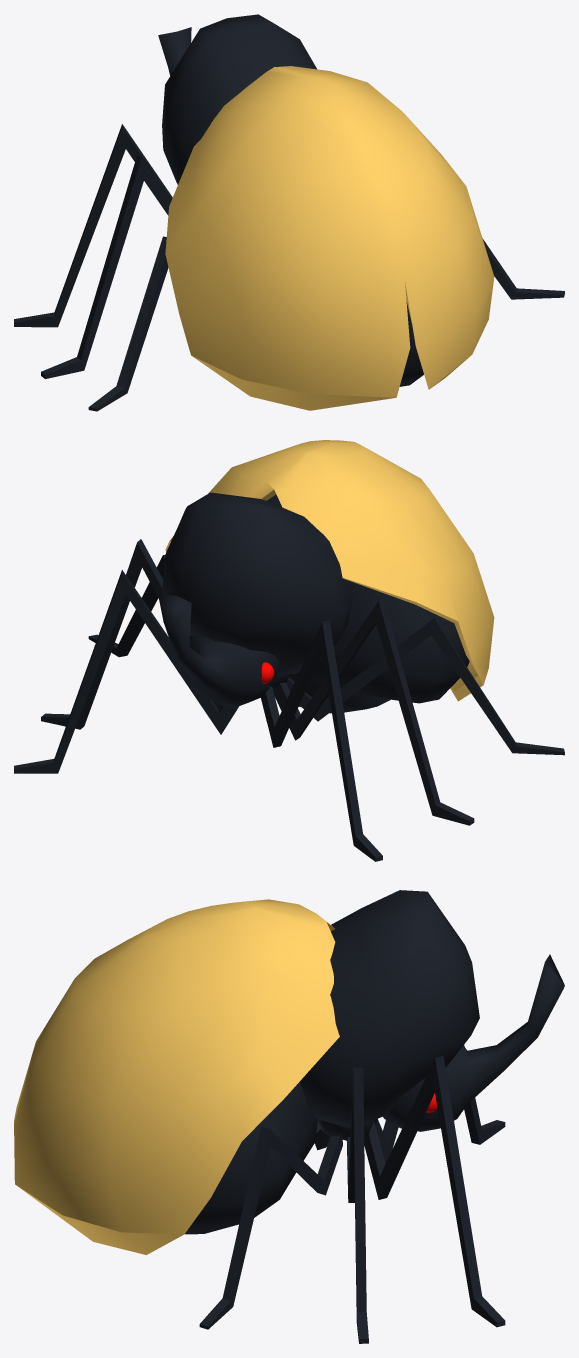
The model's file is Scarab.fbx.
The picture shows the model from 3 angles, top to bottom: view 1: azimuth 30°, elevation 25°; view 2: azimuth 150°, elevation 25°; view 3: azimuth 270°, elevation 25°; orthographic projection. The views are drawn at different scales.
Parts seen in each view (by area): view 1: Sphere.002, Cube, Plane.002, Plane, Plane.001, Cube.001, Sphere; view 2: Sphere.002, Cube, Plane.001, Sphere, Plane.002, Cube.001, Plane; view 3: Sphere.002, Cube, Plane.001, Sphere, Cube.001, Plane, Plane.002.
Part boxes in pixels (x1,y1,x2,y2): Sphere.002: (165, 66, 494, 410); Cube: (162, 14, 316, 184); Plane.002: (41, 155, 171, 379); Plane: (88, 236, 564, 411); Plane.001: (14, 124, 172, 327); Cube.001: (158, 27, 191, 75); Sphere: (399, 302, 423, 386); Sphere.002: (165, 440, 494, 701); Cube: (162, 492, 352, 673); Plane.001: (14, 570, 382, 861); Sphere: (267, 494, 469, 713); Plane.002: (41, 539, 474, 825); Cube.001: (158, 594, 279, 706); Plane: (88, 554, 564, 755); Sphere.002: (14, 899, 339, 1254); Cube: (300, 890, 479, 1128); Plane.001: (364, 1045, 505, 1327); Sphere: (185, 1081, 317, 1234); Cube.001: (383, 954, 564, 1131); Plane: (199, 1121, 342, 1329); Plane.002: (347, 1067, 368, 1343).
Size of the model in its own units: 141 by 80.61 by 125.
